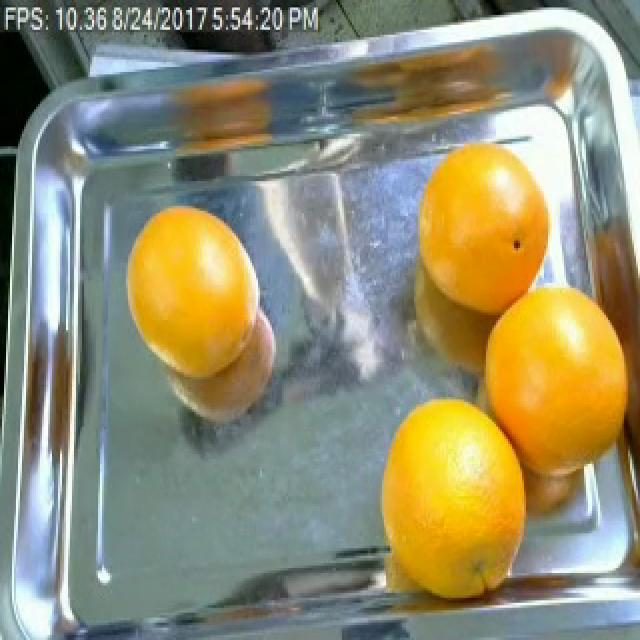Fruit: (396, 121, 566, 332), (116, 191, 278, 389), (370, 380, 532, 548)
